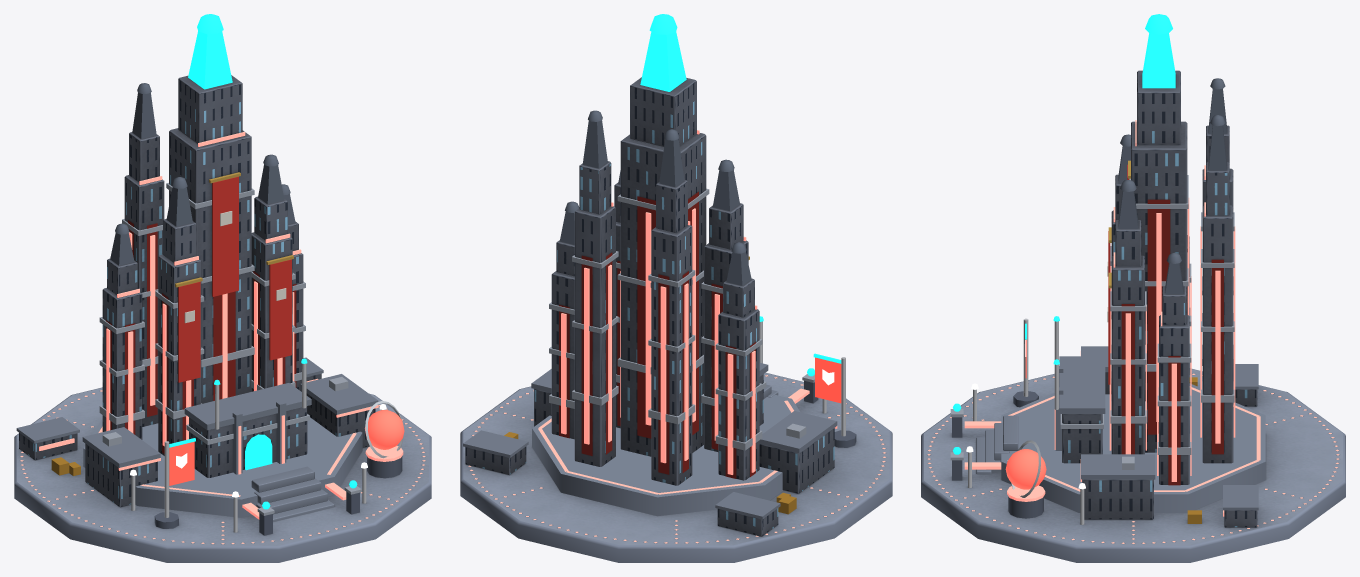
File: residence_dl8_red.glb
3 renders of one model, left to right at view 1: azimuth 30°, elevation 25°; view 2: azimuth 150°, elevation 25°; view 3: azimuth 270°, elevation 25°, orthographic. The views are drawn at different scales.
Parts seen in each view (by area): view 1: residence_dl8_red; view 2: residence_dl8_red; view 3: residence_dl8_red.
Part boxes in pixels (box(x1,y1,x2,y2)): residence_dl8_red: box(14, 14, 431, 562); residence_dl8_red: box(460, 14, 892, 562); residence_dl8_red: box(921, 14, 1345, 562).
Size of the model in its own units: 1.66 by 1.98 by 1.66.
7 materials, 1 textured.
